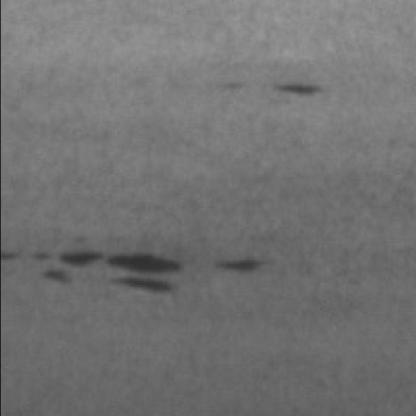inclusion: (0, 250, 181, 298), (266, 79, 327, 108), (206, 256, 270, 283)
